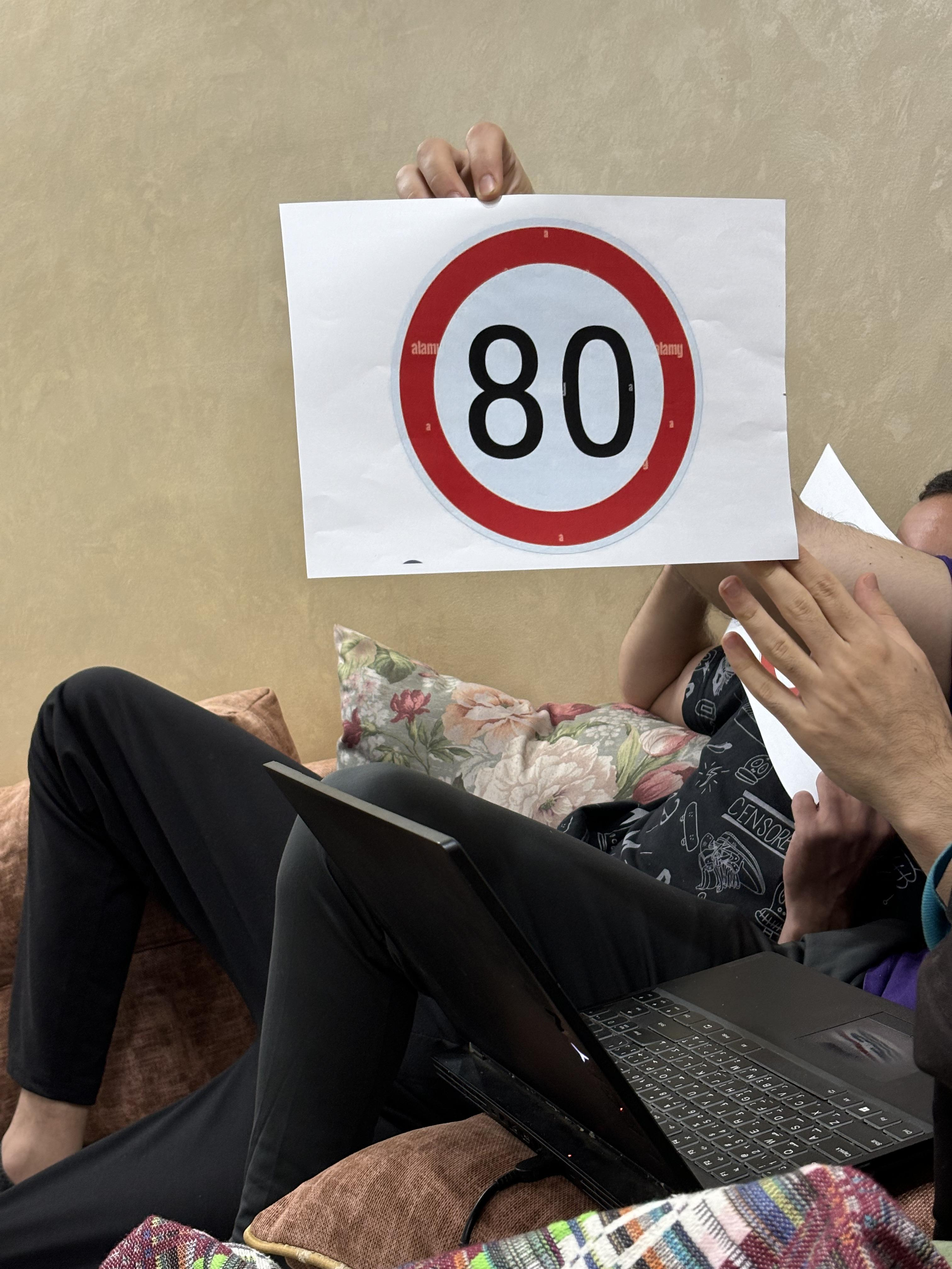80-Speed: (391, 218, 704, 558)
